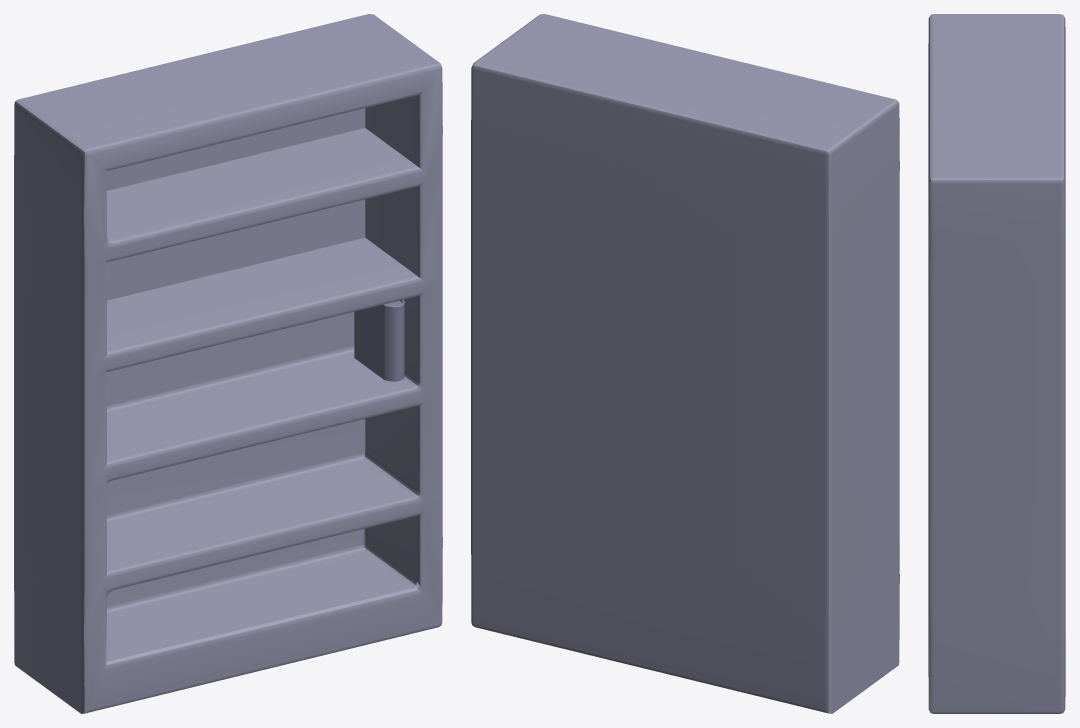
The model's file is Bookshelf and Book V1.fbx.
3 views of the same model, side by side, from view 1: azimuth 30°, elevation 25°; view 2: azimuth 150°, elevation 25°; view 3: azimuth 270°, elevation 25° (orthographic). The views are drawn at different scales.
Parts seen in each view (by area): view 1: polySurface8, pCube40; view 2: polySurface8; view 3: polySurface8.
Part boxes in pixels (bbox=[...]): polySurface8: bbox=[14, 14, 442, 713]; pCube40: bbox=[354, 299, 404, 381]; polySurface8: bbox=[471, 14, 899, 713]; polySurface8: bbox=[928, 14, 1065, 713].
Size of the model in its own units: 1.47 by 2.2 by 0.5109.
